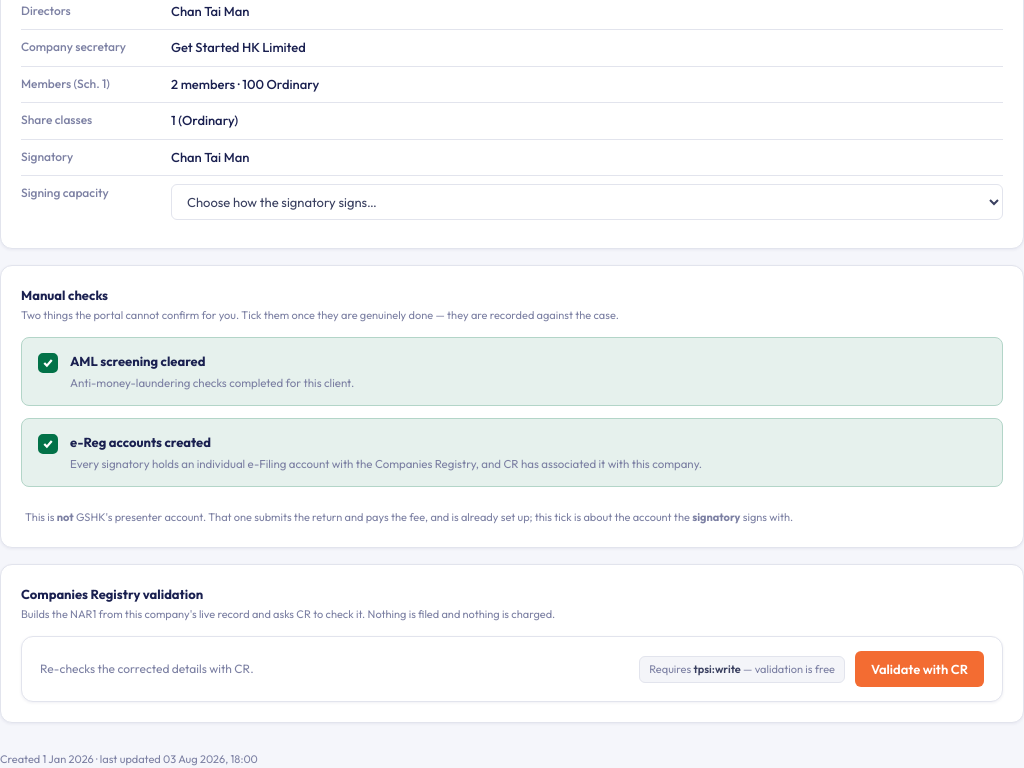
it: CaseWorkflowPage — CR refusals › does not tell someone to edit the form when the signature was refused
(page scrolled)
Click the button "Validate with CR" at (920, 669), box [855,651,984,687]
(page scrolled)
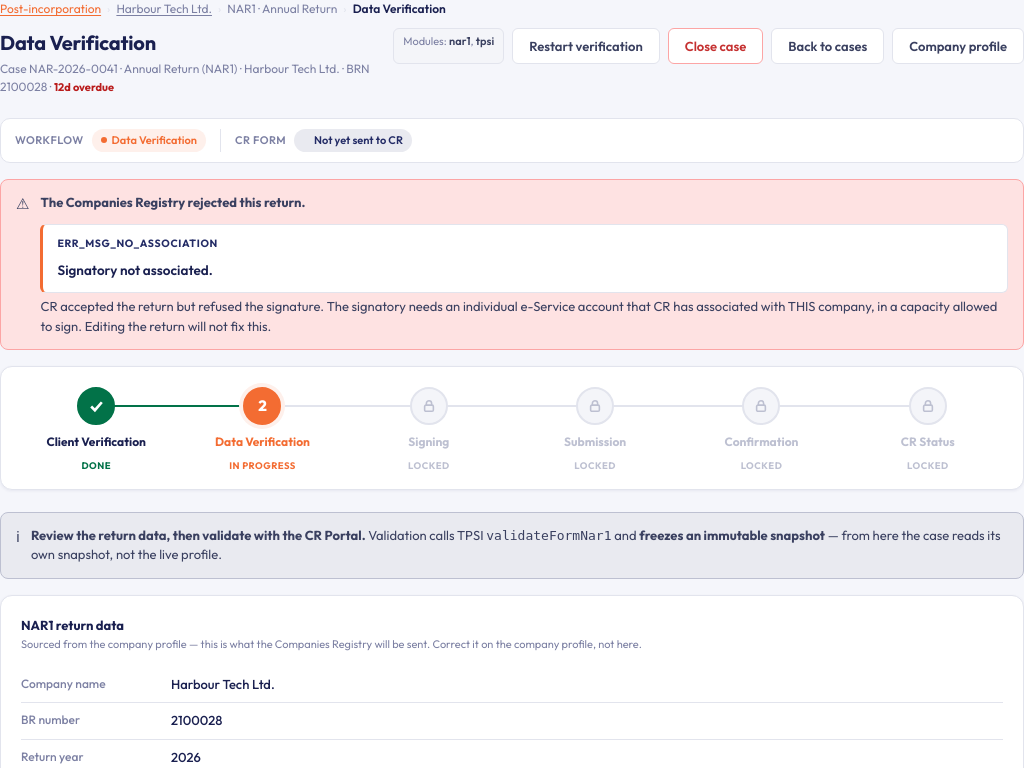
Now the text "Editing the return will not fix this" is shown, box [40,298,997,334]
